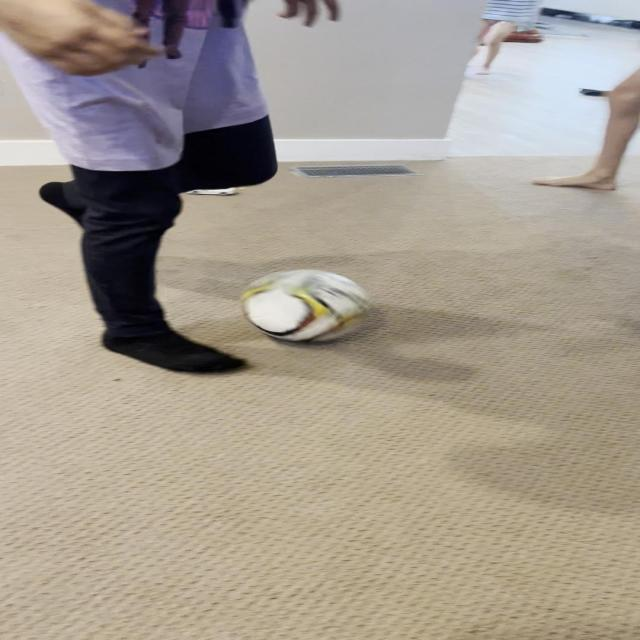Soccer Ball: (240, 269, 376, 345)
